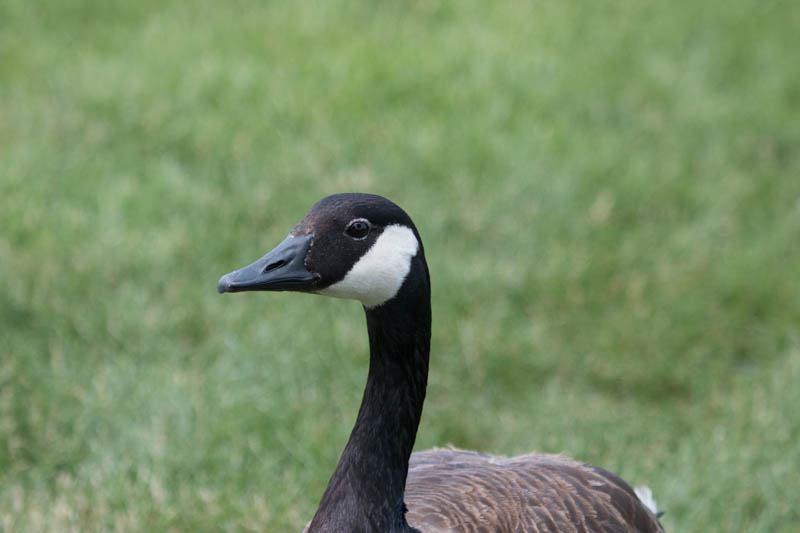goose-head: (215, 193, 431, 310)
